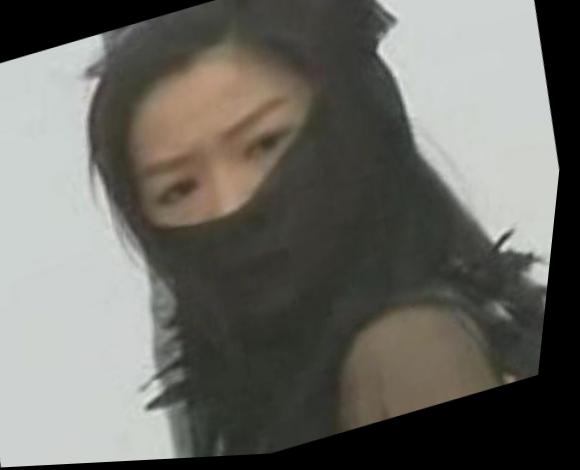WRONG: (109, 68, 391, 354)
